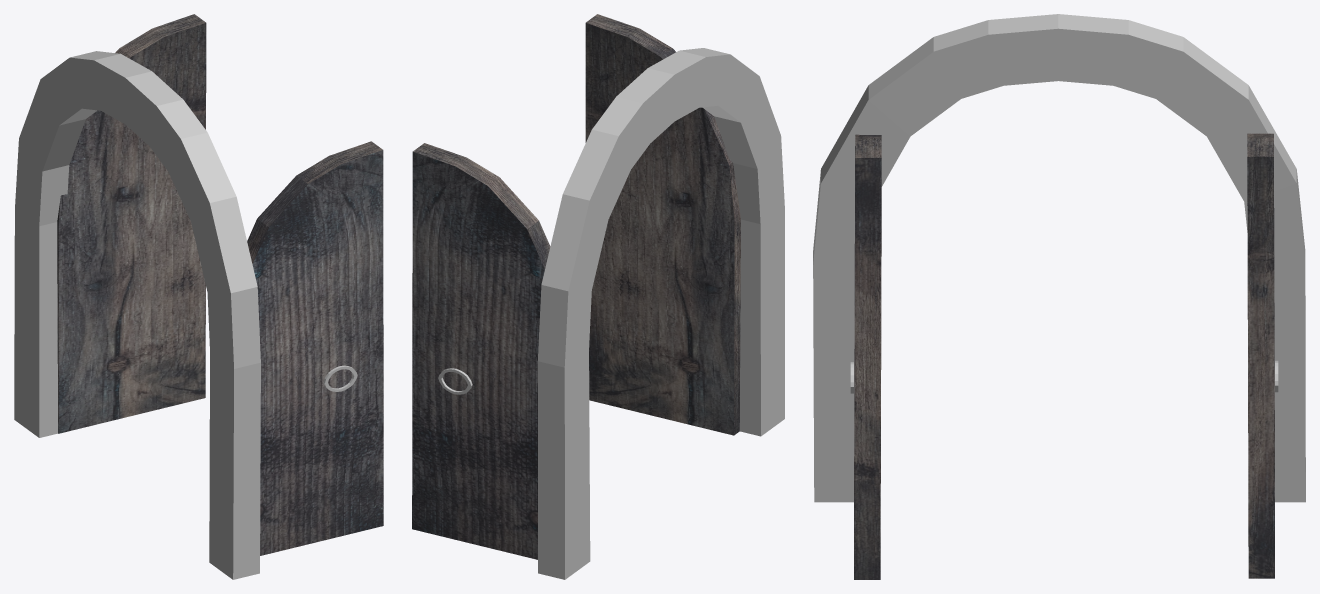
The model's file is level_2_platform_tower_1_door.fbx.
3 renders of one model, left to right at view 1: azimuth 30°, elevation 25°; view 2: azimuth 150°, elevation 25°; view 3: azimuth 270°, elevation 25°, orthographic. The views are drawn at different scales.
Parts seen in each view (by area): view 1: DoorFrame, RightDoor, LeftDoor; view 2: LeftDoor, DoorFrame, RightDoor; view 3: DoorFrame, LeftDoor, RightDoor.
Boxes of the visible parts, x1=… form: DoorFrame: x1=14, y1=51, x2=260, y2=579; RightDoor: x1=247, y1=141, x2=383, y2=555; LeftDoor: x1=57, y1=14, x2=206, y2=433; LeftDoor: x1=412, y1=143, x2=550, y2=559; DoorFrame: x1=537, y1=48, x2=784, y2=579; RightDoor: x1=585, y1=14, x2=740, y2=435; DoorFrame: x1=813, y1=14, x2=1305, y2=502; LeftDoor: x1=1247, y1=133, x2=1278, y2=578; RightDoor: x1=850, y1=134, x2=881, y2=579.
Bounding box in the file's own units: 46.03 × 110 × 104.
